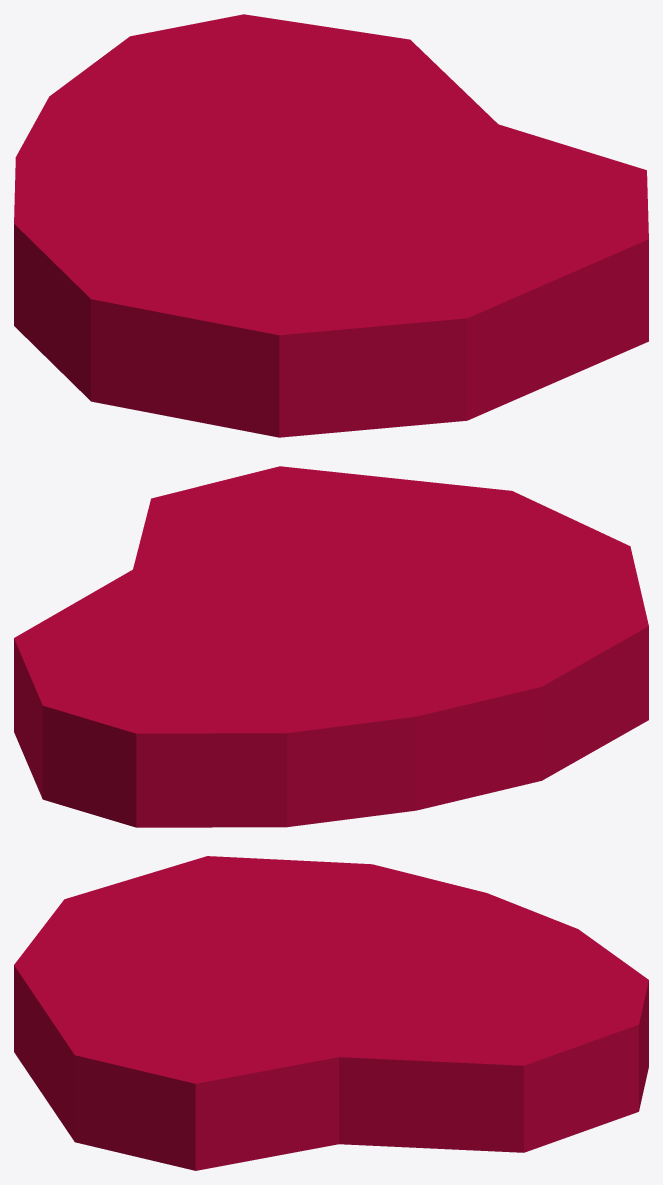
The model's file is Steak (1).fbx.
The picture shows the model from 3 angles, top to bottom: view 1: azimuth 30°, elevation 25°; view 2: azimuth 150°, elevation 25°; view 3: azimuth 270°, elevation 25°; orthographic projection. The views are drawn at different scales.
Visible parts, largest first — view 1: Steak; view 2: Steak; view 3: Steak.
Boxes of the visible parts, bbox=[...] form: Steak: bbox=[14, 14, 648, 437]; Steak: bbox=[14, 466, 648, 827]; Steak: bbox=[14, 856, 648, 1170].
Size of the model in its own units: 0.2553 by 0.0455 by 0.3007.
